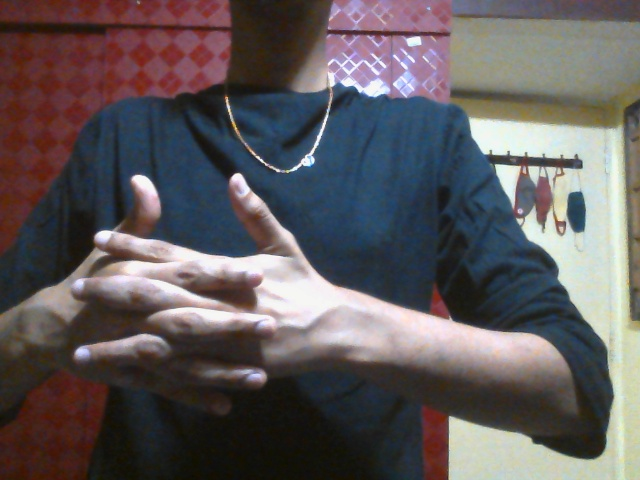W: (56, 171, 333, 420)
